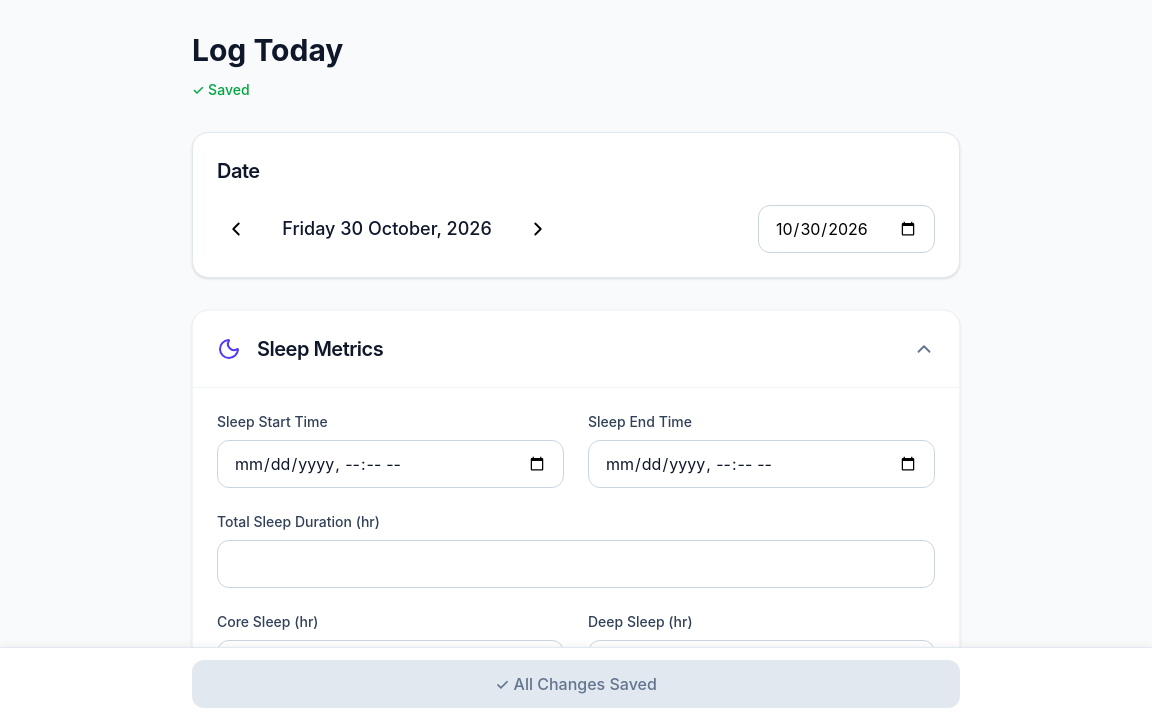
Scenario: LogSleepMetrics › saves successfully
The width and height of the screenshot is (1152, 720).
Type "8" into the number field labelled "Total Sleep Duration (hr)" at (576, 564), box [217,540,935,588]
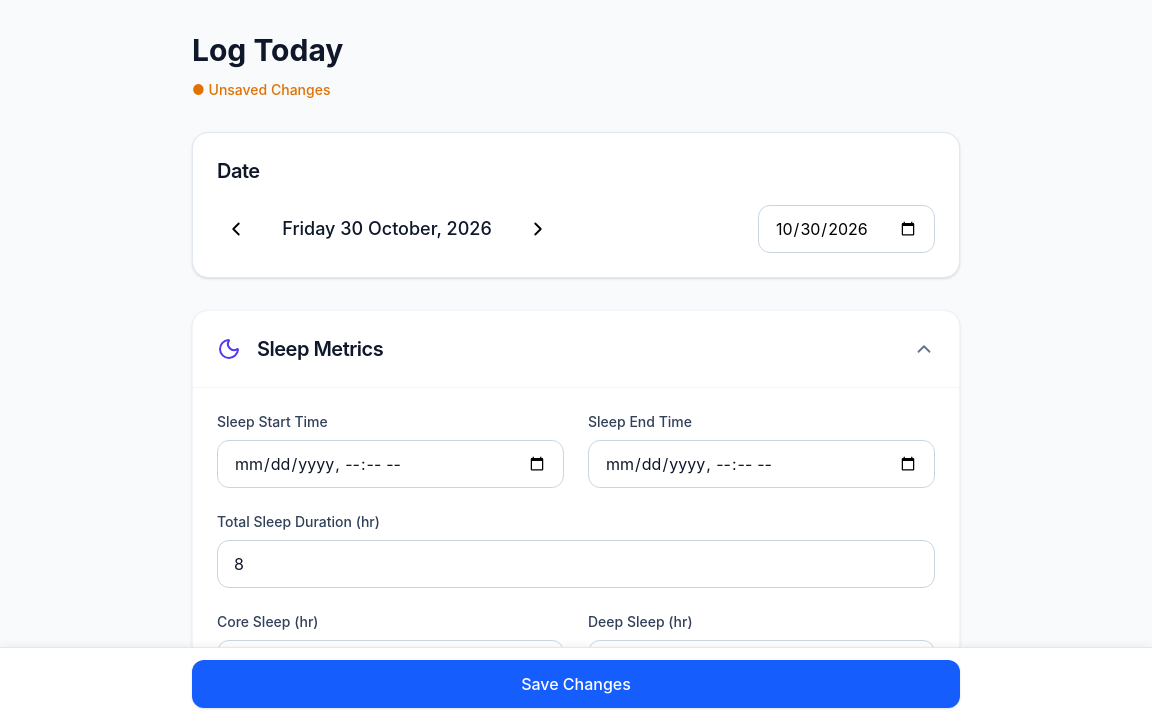
Click the button "Save Changes" at (576, 684), box [192,660,960,708]
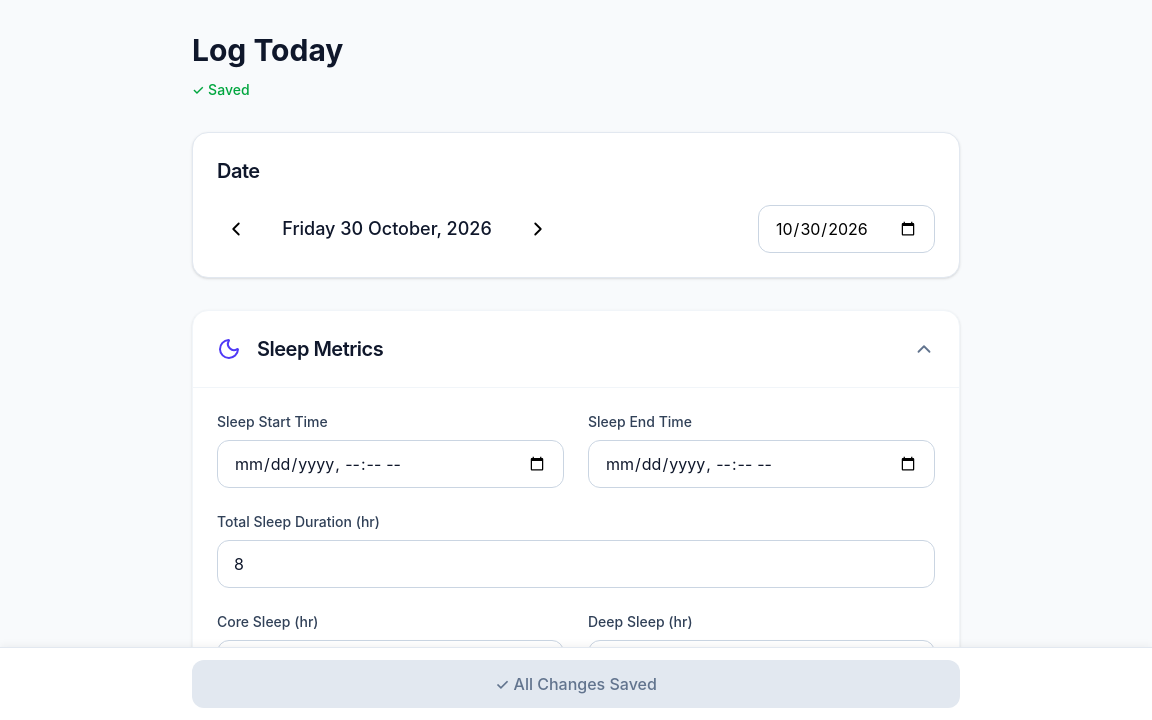
Expected: the text "✓ Saved" is shown, [192,80,250,100]
